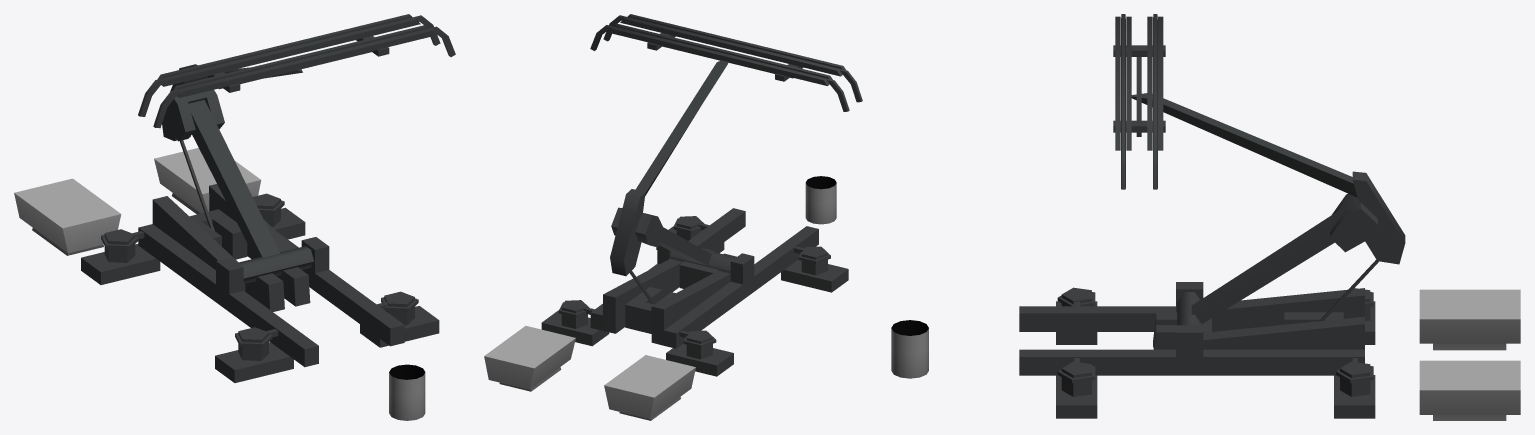
The model's file is MU_PANTA.glb.
The picture shows the model from 3 angles, left to right: view 1: azimuth 30°, elevation 25°; view 2: azimuth 150°, elevation 25°; view 3: azimuth 270°, elevation 25°; orthographic projection. The views are drawn at different scales.
Parts seen in each view (by area): view 1: OBJ; view 2: OBJ; view 3: OBJ.
Part boxes in pixels (box(x1,y1,x2,y2)): OBJ: box(14, 14, 455, 420); OBJ: box(484, 14, 862, 420); OBJ: box(891, 14, 1520, 420).
Bounding box in the file's own units: 4.29 × 3.89 × 7.48.
Materials: 3 (3 with a texture image).
